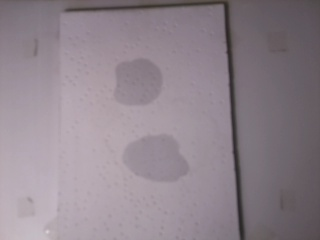Water_detected: (127, 145, 175, 181), (121, 69, 161, 102)
